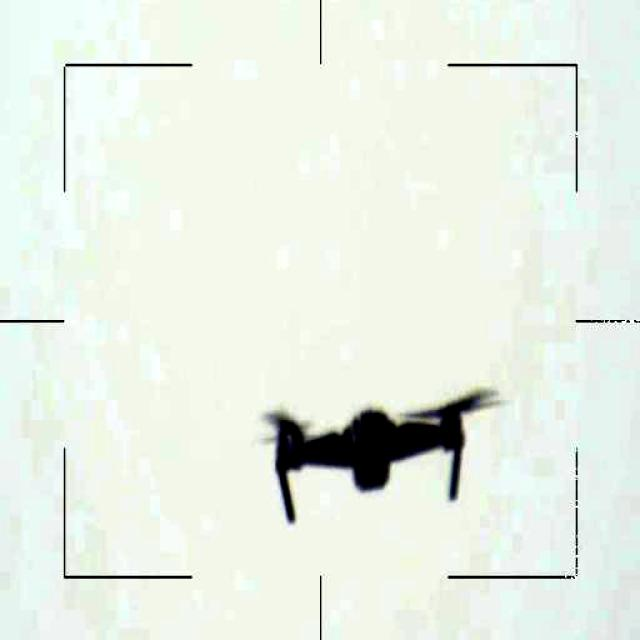bird: (242, 380, 505, 536)
